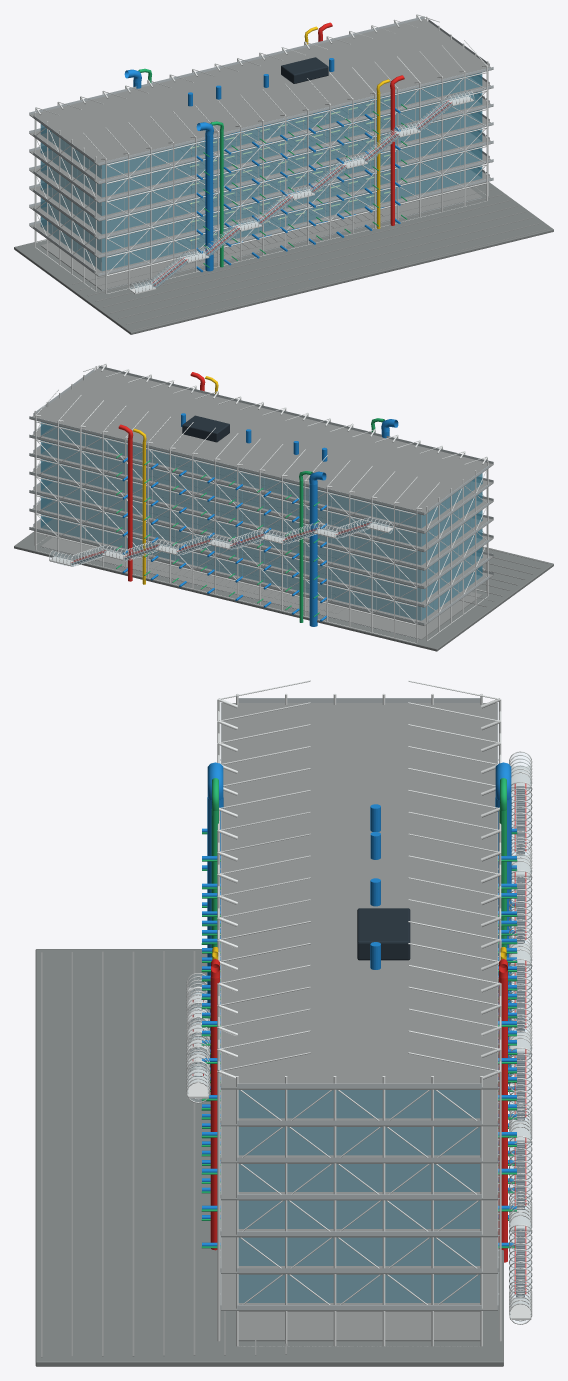
Rendered from centre_pompidou.optimized.glb.
3 views of the same model, one above another, from view 1: azimuth 30°, elevation 25°; view 2: azimuth 150°, elevation 25°; view 3: azimuth 270°, elevation 25° (orthographic). The views are drawn at different scales.
Visible parts, largest first — view 1: Blue_Air_Duct_Roof_Bend, Web_Escalator_Glass_Web, Escalator_Left_Facade_Up_Continuous_Glass_Tube, Web_Interior_Light; view 2: Blue_Air_Duct_Roof_Bend, Web_Escalator_Glass_Web, Escalator_Left_Facade_Up_Continuous_Glass_Tube; view 3: Blue_Air_Duct_Roof_Bend, Web_Escalator_Glass_Web, Escalator_Left_Facade_Up_Continuous_Glass_Tube.
Boxes of the visible parts, x1,y1,x2,y2 form: Blue_Air_Duct_Roof_Bend: (14, 14, 553, 334); Web_Escalator_Glass_Web: (40, 72, 482, 287); Escalator_Left_Facade_Up_Continuous_Glass_Tube: (133, 91, 468, 287); Web_Interior_Light: (190, 99, 390, 240); Blue_Air_Duct_Roof_Bend: (14, 363, 553, 651); Web_Escalator_Glass_Web: (40, 422, 482, 620); Escalator_Left_Facade_Up_Continuous_Glass_Tube: (54, 518, 389, 566); Blue_Air_Duct_Roof_Bend: (35, 680, 532, 1366); Web_Escalator_Glass_Web: (192, 853, 525, 1302); Escalator_Left_Facade_Up_Continuous_Glass_Tube: (188, 766, 531, 1297).
Size of the model in its own units: 240 by 83.97 by 122.
Materials: 4 (4 with a texture image).
